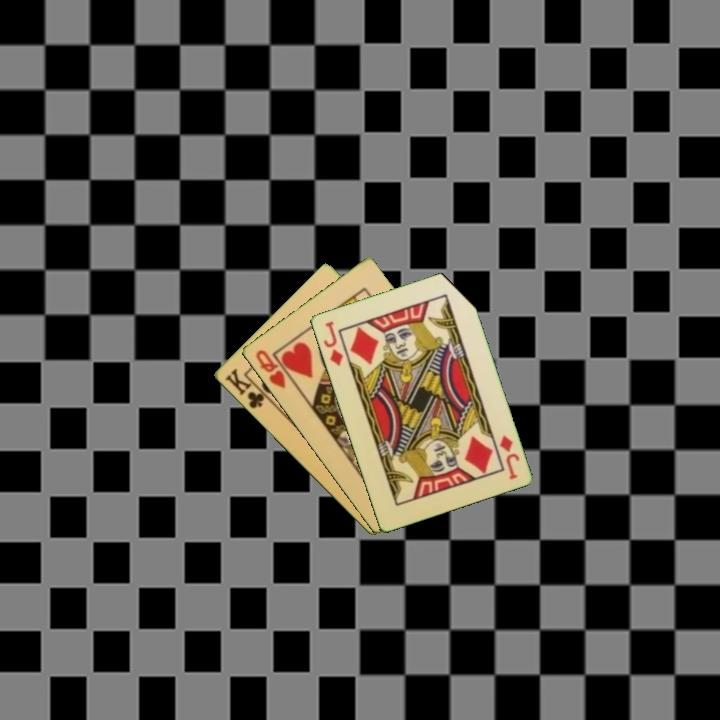Jd: (320, 318, 346, 369), (496, 431, 522, 482)
Kc: (221, 364, 272, 412)
Qh: (252, 346, 288, 391)
